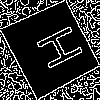H: (25, 23, 85, 76)
